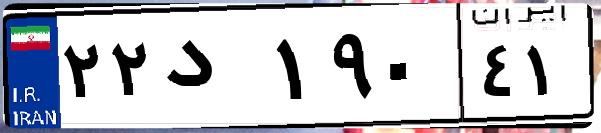0: (385, 28, 445, 110)
1: (270, 28, 330, 110), (525, 38, 570, 115)
2: (57, 26, 110, 100), (110, 28, 158, 98)
4: (475, 38, 525, 113)
9: (330, 28, 385, 110)
د: (158, 20, 270, 120)
